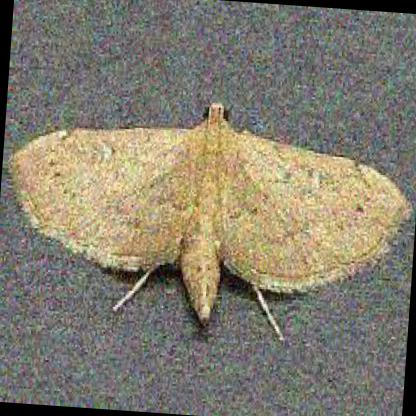Leaf Webber: (5, 96, 412, 346)
